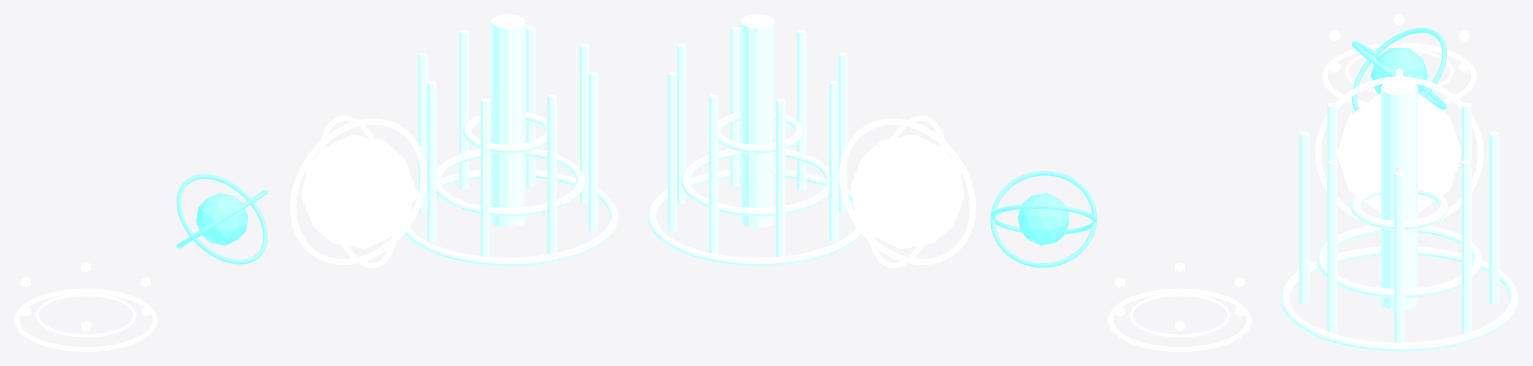
The model's file is ella_skills_vfx.glb.
The picture shows the model from 3 angles, left to right: view 1: azimuth 30°, elevation 25°; view 2: azimuth 150°, elevation 25°; view 3: azimuth 270°, elevation 25°; orthographic projection. The views are drawn at different scales.
Visible parts, largest first — view 1: VFX_Ultimate, VFX_Skill_2, VFX_Skill_1, VFX_Passive; view 2: VFX_Ultimate, VFX_Skill_2, VFX_Skill_1, VFX_Passive; view 3: VFX_Ultimate, VFX_Skill_2, VFX_Skill_1, VFX_Passive.
Part boxes in pixels (x1,y1,x2,y2): VFX_Ultimate: (400,14,618,266); VFX_Skill_2: (290,115,426,268); VFX_Skill_1: (176,174,267,264); VFX_Passive: (14,262,157,351); VFX_Ultimate: (647,14,865,266); VFX_Skill_2: (839,115,975,268); VFX_Skill_1: (990,171,1096,267); VFX_Passive: (1108,262,1251,351); VFX_Ultimate: (1280,79,1518,351); VFX_Skill_2: (1315,68,1483,220); VFX_Skill_1: (1351,28,1447,111); VFX_Passive: (1322,14,1476,106).
Size of the model in its own units: 8.55 by 2.88 by 2.81.
